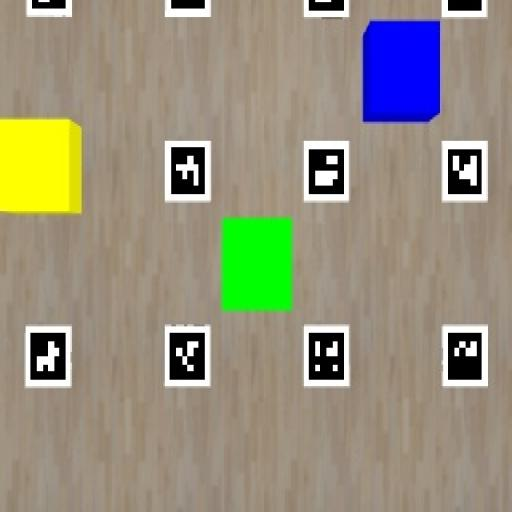car: (362, 20, 441, 123), (221, 218, 292, 311)
fire: (0, 120, 81, 215)
